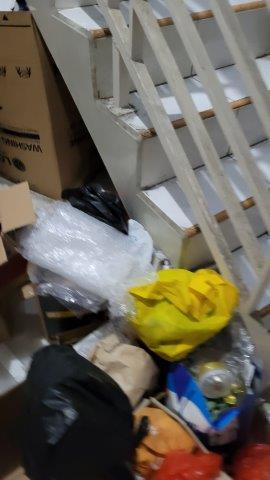plastik: (43, 205, 148, 304), (43, 357, 132, 471), (159, 445, 217, 480), (243, 448, 270, 478)
